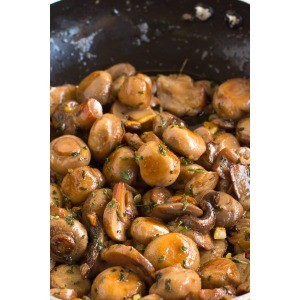mushroom_brain food: (97, 101, 218, 260)
